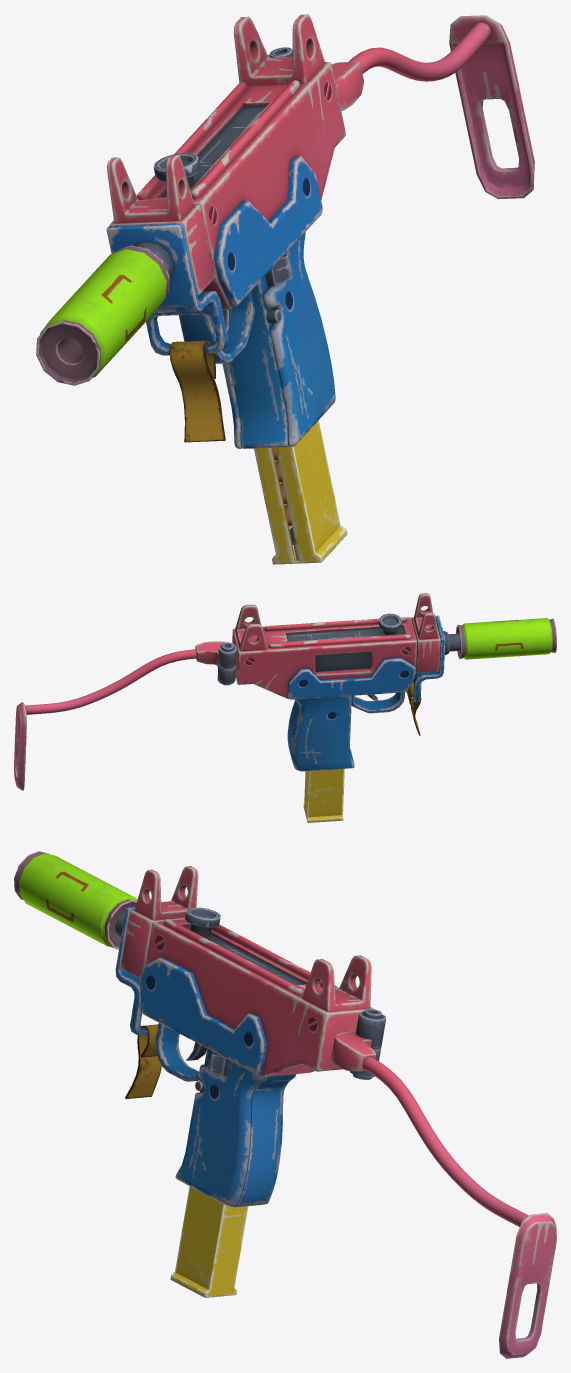
File: uzi.glb
3 renders of one model, top to bottom at view 1: azimuth 30°, elevation 25°; view 2: azimuth 150°, elevation 25°; view 3: azimuth 270°, elevation 25°, orthographic. The views are drawn at different scales.
Parts seen in each view (by area): view 1: Cube, Cylinder.002, Cube.014, Plane.002, Cube.018, Plane.003, Cube.001, Cube.006, Cube.004, Plane.005, Cube.005, Cube.007 (+7 smaller); view 2: Cube, Cube.009, Cylinder.002, Plane.004, Cube.014, Plane.001, Cube.007, Cube.004, Plane.002, Cube.012, Cube.011, Cube.005 (+7 smaller); view 3: Cube, Cube.018, Plane.003, Cylinder.002, Cube.014, Plane.002, Cube.001, Plane.001, Cube.004, Cube.007, Cube.005, Cube.012 (+7 smaller).
Part boxes in pixels (x1,y1,x2,y2): Cube: [136, 62, 345, 309]; Cylinder.002: [36, 245, 169, 385]; Cube.014: [254, 420, 347, 564]; Plane.002: [449, 15, 534, 199]; Cube.018: [262, 232, 335, 446]; Plane.003: [214, 156, 322, 306]; Cube.001: [229, 275, 288, 448]; Cube.006: [106, 223, 227, 355]; Cube.004: [233, 14, 325, 86]; Plane.005: [169, 340, 225, 442]; Cube.005: [107, 155, 194, 223]; Cube.007: [137, 80, 300, 199]; Cube: [232, 617, 417, 698]; Cube.009: [292, 695, 354, 771]; Cylinder.002: [456, 618, 556, 659]; Plane.004: [288, 657, 415, 699]; Cube.014: [303, 768, 344, 822]; Plane.001: [25, 649, 196, 714]; Cube.007: [264, 617, 411, 648]; Cube.004: [235, 604, 267, 651]; Plane.002: [14, 702, 26, 790]; Cube.012: [411, 617, 440, 673]; Cube.011: [286, 626, 405, 641]; Cube.005: [413, 593, 438, 639]; Cube: [146, 919, 373, 1077]; Cube.018: [175, 1060, 264, 1207]; Plane.003: [139, 957, 267, 1074]; Cylinder.002: [14, 851, 137, 949]; Cube.014: [170, 1186, 248, 1297]; Plane.002: [499, 1213, 556, 1358]; Cube.001: [199, 1048, 294, 1207]; Plane.001: [363, 1057, 528, 1226]; Cube.004: [302, 955, 371, 1012]; Cube.007: [163, 919, 338, 996]; Cube.005: [134, 866, 198, 920]; Cube.012: [120, 910, 185, 978].
Size of the model in its own units: 15.09 by 8.43 by 11.63.
Materials: 1 (1 with a texture image).
